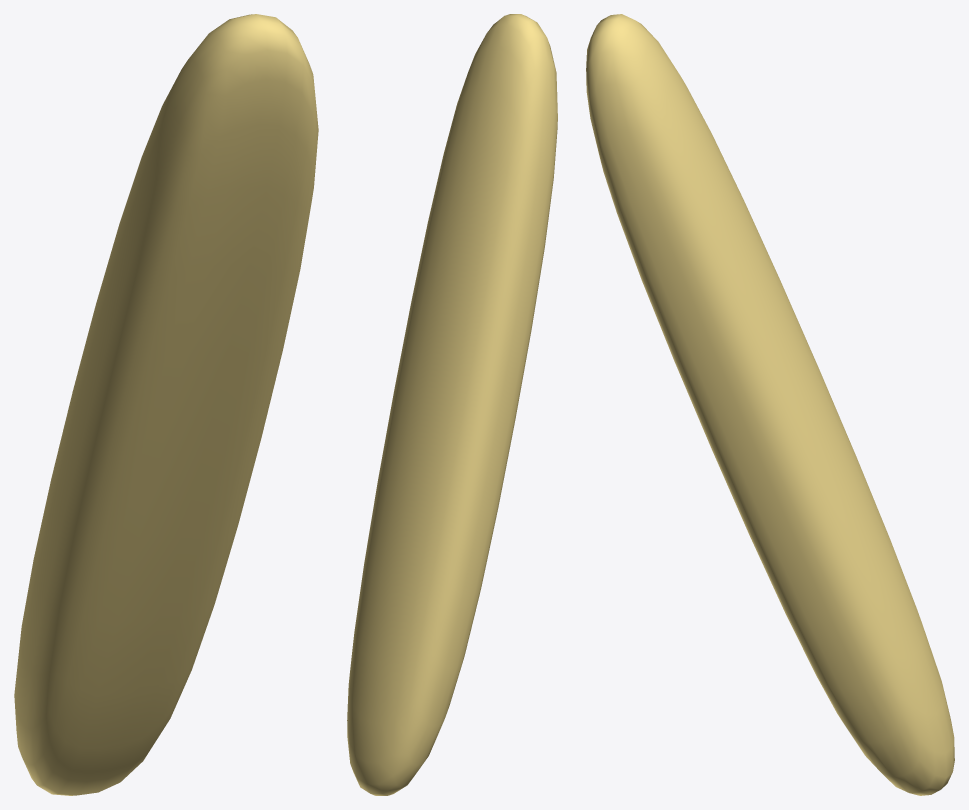
3 views of the same model, side by side, from view 1: azimuth 30°, elevation 25°; view 2: azimuth 150°, elevation 25°; view 3: azimuth 270°, elevation 25° (orthographic). The views are drawn at different scales.
Visible parts, largest first — view 1: ZA_b15e00d5f9a50fad; view 2: ZA_b15e00d5f9a50fad; view 3: ZA_b15e00d5f9a50fad.
Boxes of the visible parts, <box> form: ZA_b15e00d5f9a50fad: <box>14,14,318,795</box>; ZA_b15e00d5f9a50fad: <box>347,14,557,795</box>; ZA_b15e00d5f9a50fad: <box>586,14,954,795</box>.
Bounding box in the file's own units: 0.00131 × 0.00738 × 0.00319.
